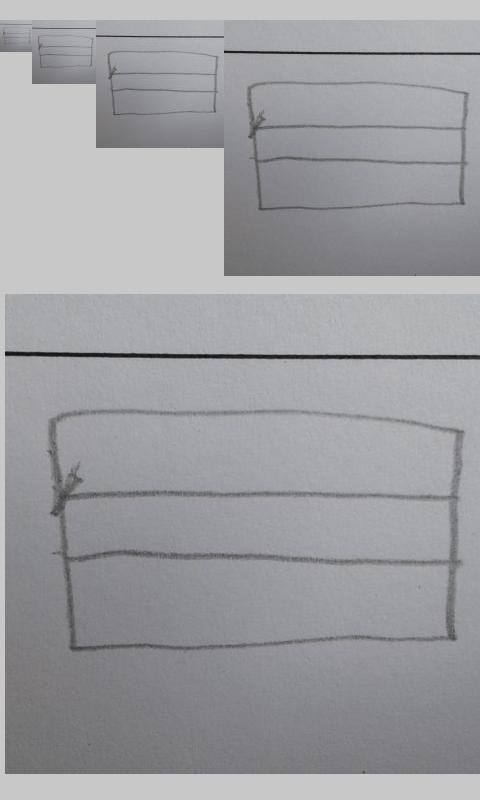list_view: (45, 403, 465, 655), (244, 79, 470, 211), (106, 49, 220, 117), (37, 34, 94, 69), (2, 26, 31, 45)
